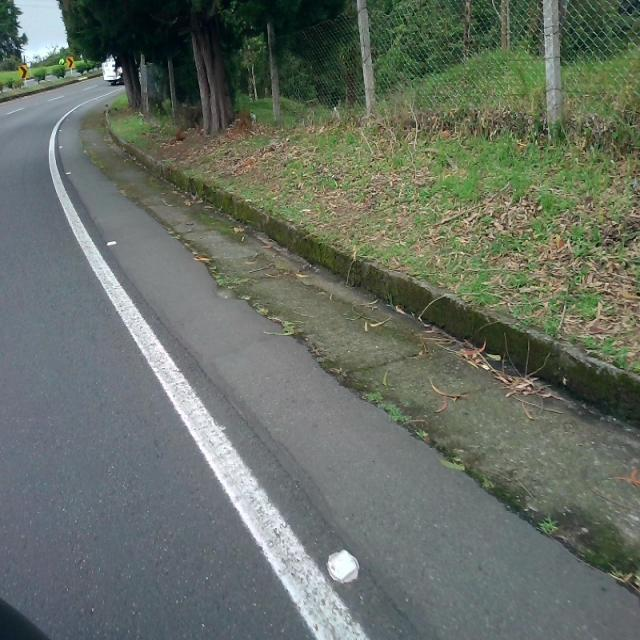DITCH: (77, 94, 639, 603)
